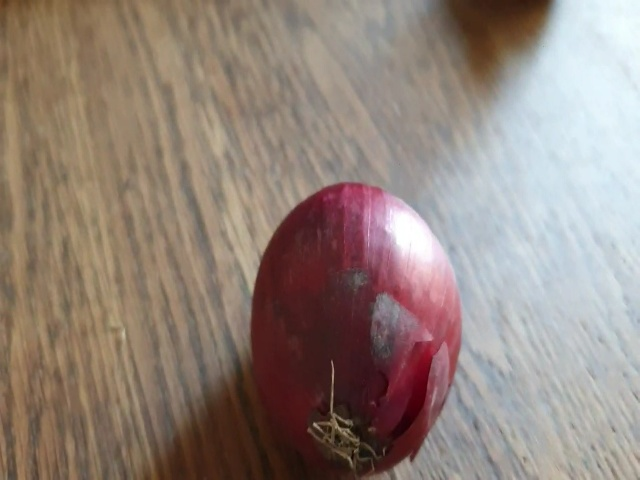red_onion: (242, 176, 472, 480)
